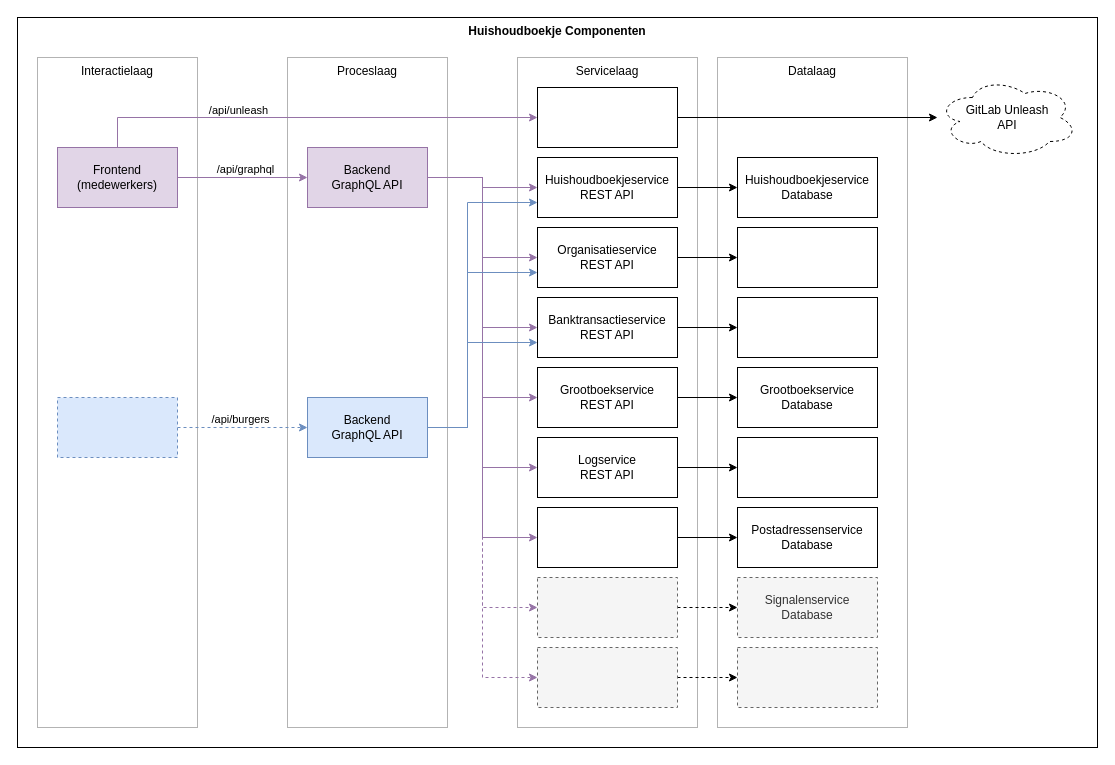
Image size: 1115x765. Some labels were removed from this diagram. Here are the shapes that lost their labels. From the top down, the centre of each, then its label:
At point (607, 117): "Unleashservice REST API".
At point (807, 257): "Organisatieservice Database".
At point (807, 327): "Banktransactieservice Database".
At point (117, 427): "Frontend (burgers)".
At point (807, 467): "Logservice Database".
At point (607, 537): "Postadressenservice REST API".
At point (607, 607): "Signalenservice REST API".
At point (607, 677): "Alarmenservice REST API".
At point (807, 677): "Alarmenservice Database".
